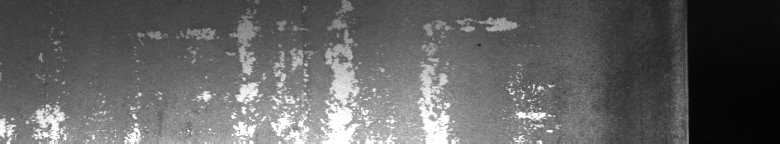kb: (4, 6, 561, 136)
